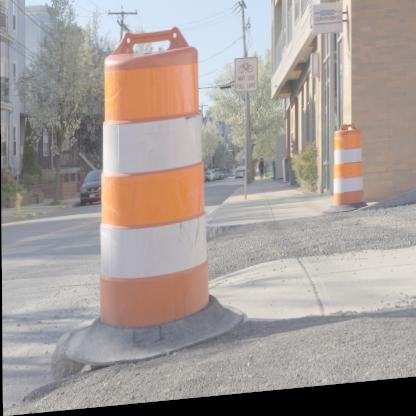obstacle: (93, 33, 214, 339), (330, 129, 362, 217)
